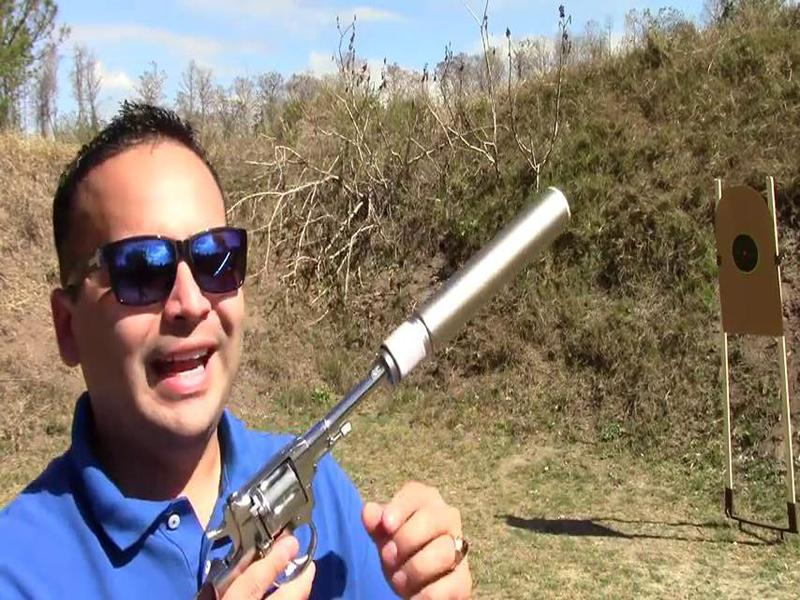Revolver: (176, 329, 382, 600)
